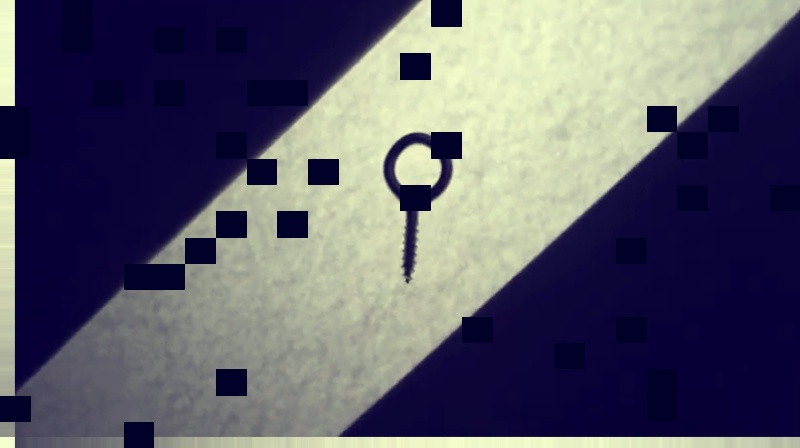O001: (382, 131, 456, 288)
